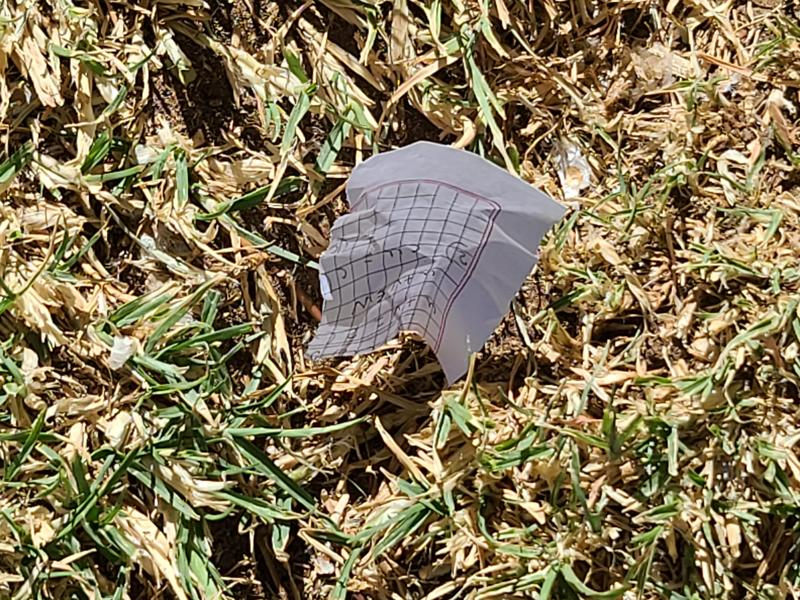papel: (306, 141, 570, 385)
